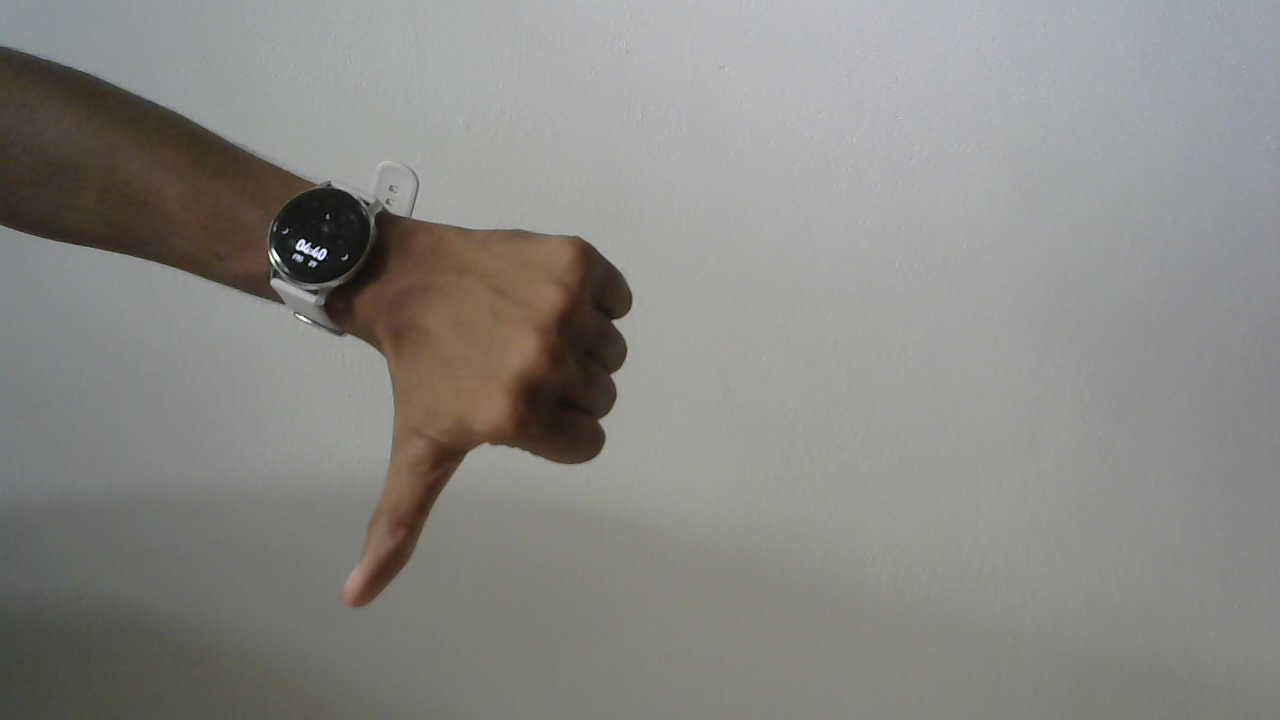thumbsdown: (309, 164, 651, 621)
